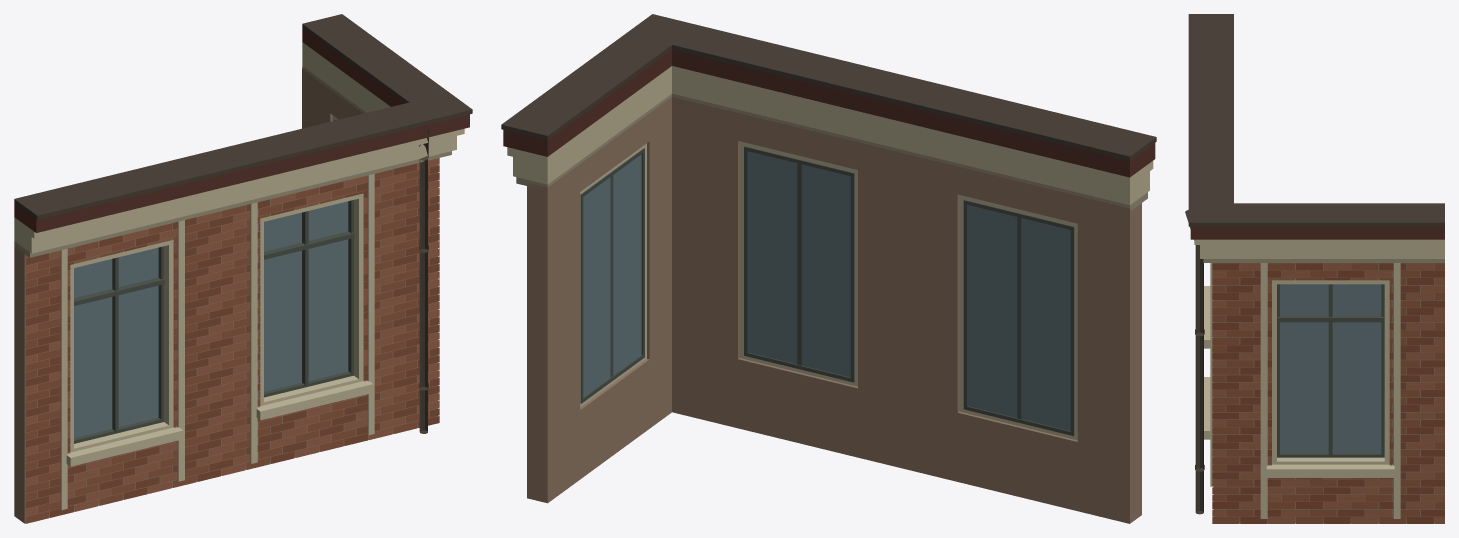
The model's file is changning-yuanpei-building-brick-corner-lod.glb.
3 views of the same model, side by side, from view 1: azimuth 30°, elevation 25°; view 2: azimuth 150°, elevation 25°; view 3: azimuth 270°, elevation 25° (orthographic). The views are drawn at different scales.
Visible parts, largest first — view 1: 元培楼红砖转角窗与叠檐; view 2: 元培楼红砖转角窗与叠檐; view 3: 元培楼红砖转角窗与叠檐.
Boxes of the visible parts, bbox=[...] form: 元培楼红砖转角窗与叠檐: bbox=[14, 14, 472, 523]; 元培楼红砖转角窗与叠檐: bbox=[501, 14, 1156, 523]; 元培楼红砖转角窗与叠檐: bbox=[1185, 14, 1444, 523].
Bounding box in the file's own units: 4.5 × 3.13 × 2.37.
